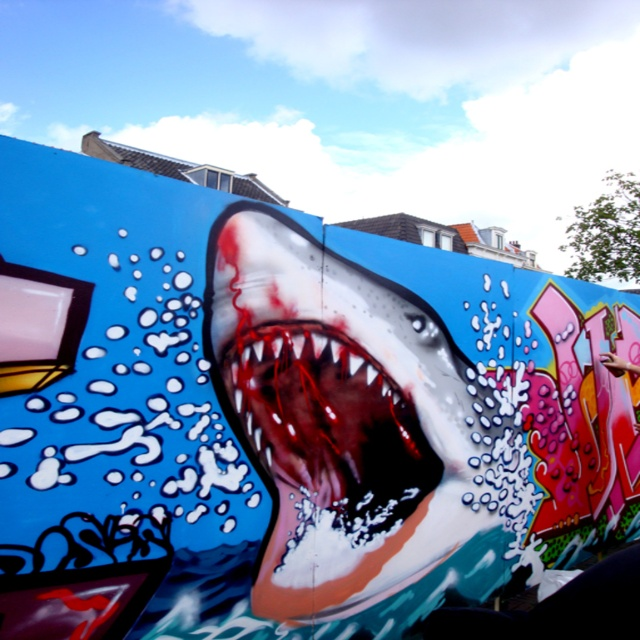Shark: (193, 199, 532, 619)
